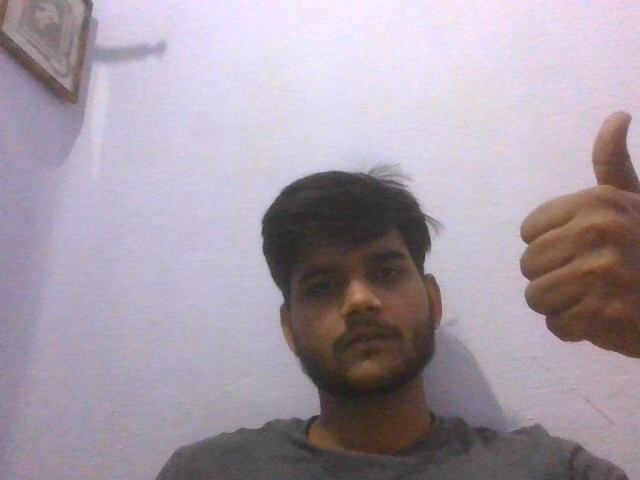thanks: (489, 104, 640, 378)
